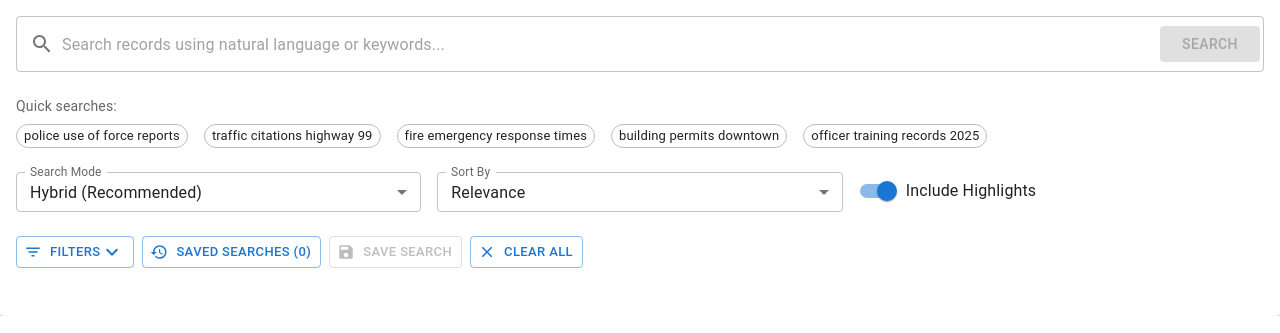
it: AdvancedSearchInterface › handles quick suggestion clicks
Click the button "police use of force reports".
click(102, 136)  # box [16,124,188,148]
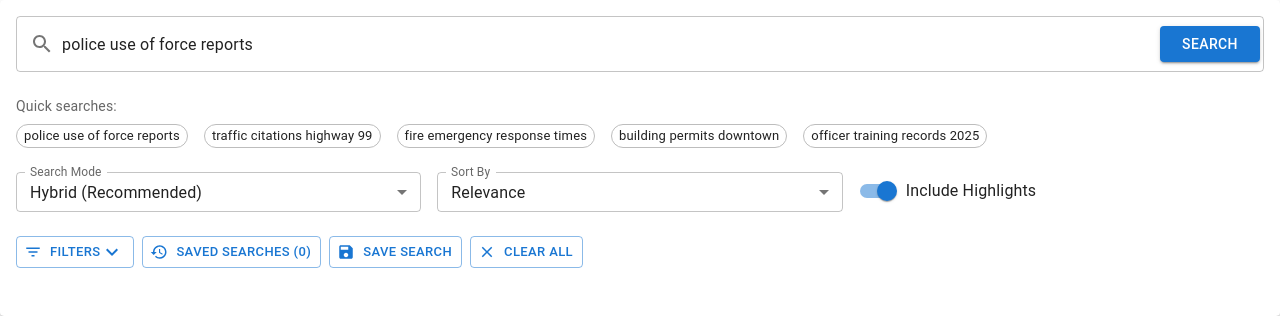
Check: the field with placeholder "Search records using natural language or keywords..." holds "police use of force reports", box [62,16,1160,72]
